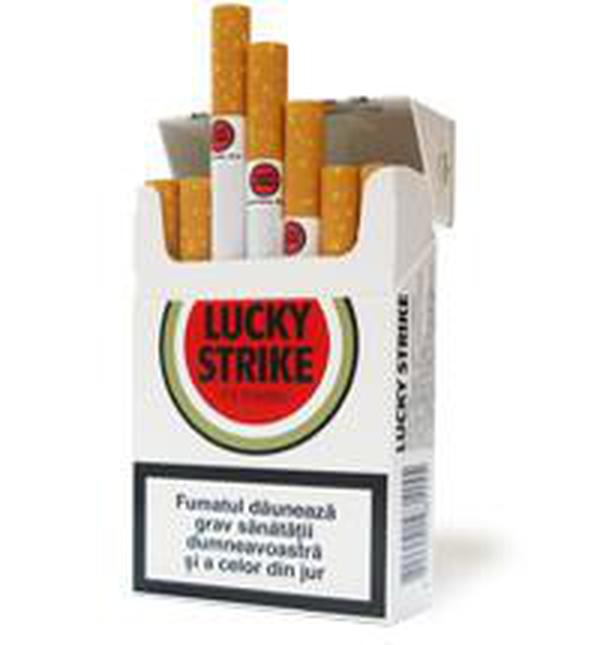lucky_strike_red: (131, 189, 395, 593)
